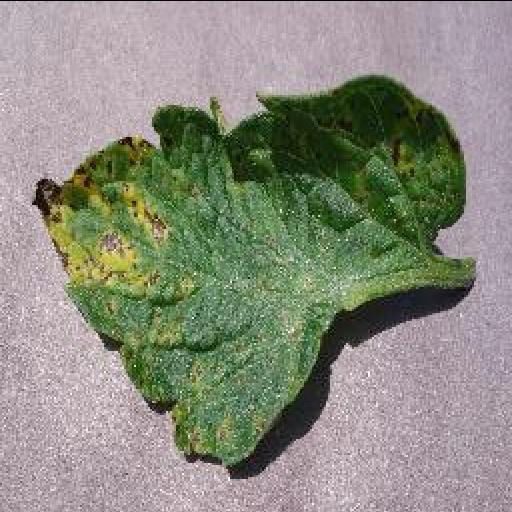disease_tomato: (29, 74, 471, 460)
